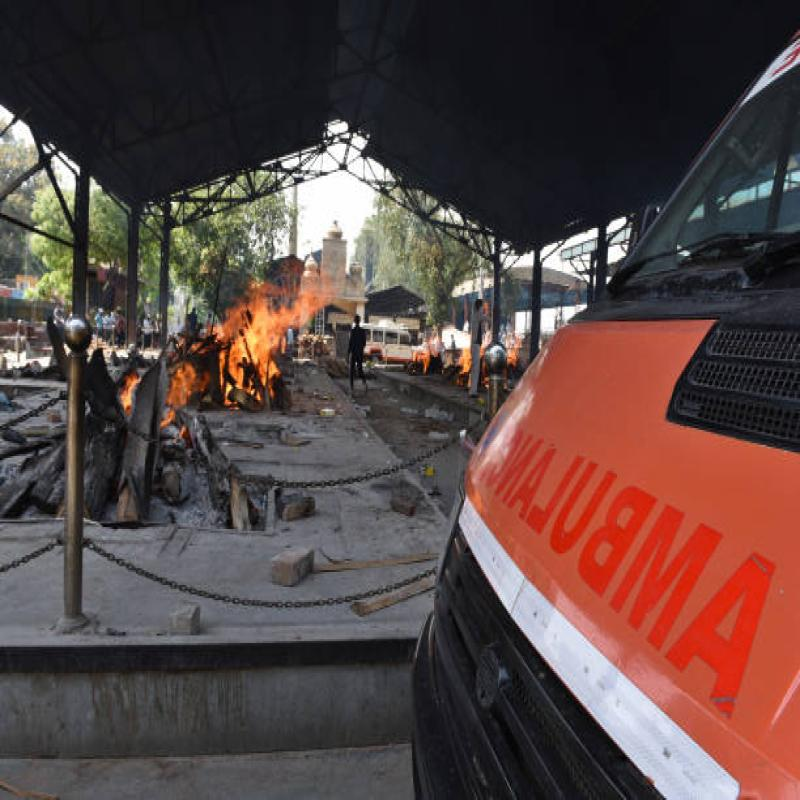ambulance: (431, 31, 800, 800)
